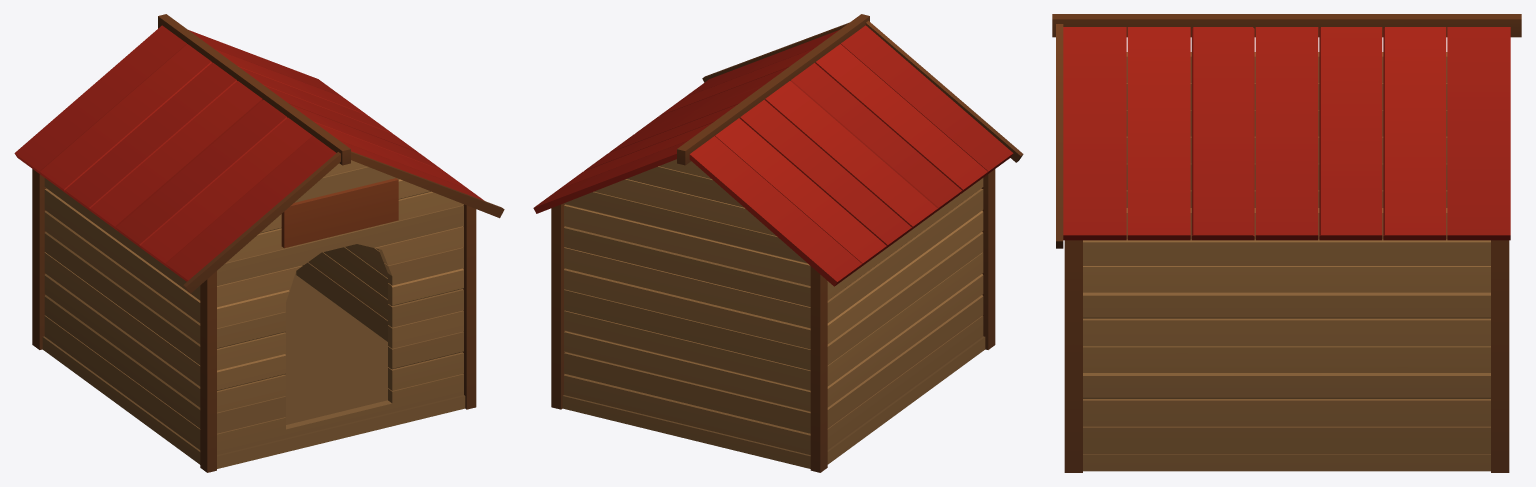
File: Bld_Doghouse_Small_01.obj
3 views of the same model, side by side, from view 1: azimuth 30°, elevation 25°; view 2: azimuth 150°, elevation 25°; view 3: azimuth 270°, elevation 25° (orthographic). The views are drawn at different scales.
Visible parts, largest first — view 1: Bld_Doghouse_Small_01; view 2: Bld_Doghouse_Small_01; view 3: Bld_Doghouse_Small_01.
Part boxes in pixels (x1,y1,x2,y2): Bld_Doghouse_Small_01: (14, 14, 504, 472); Bld_Doghouse_Small_01: (533, 14, 1023, 472); Bld_Doghouse_Small_01: (1052, 14, 1521, 472).
Bounding box in the file's own units: 0.8167 × 0.719 × 0.8197.
Materials: 1 (1 with a texture image).
